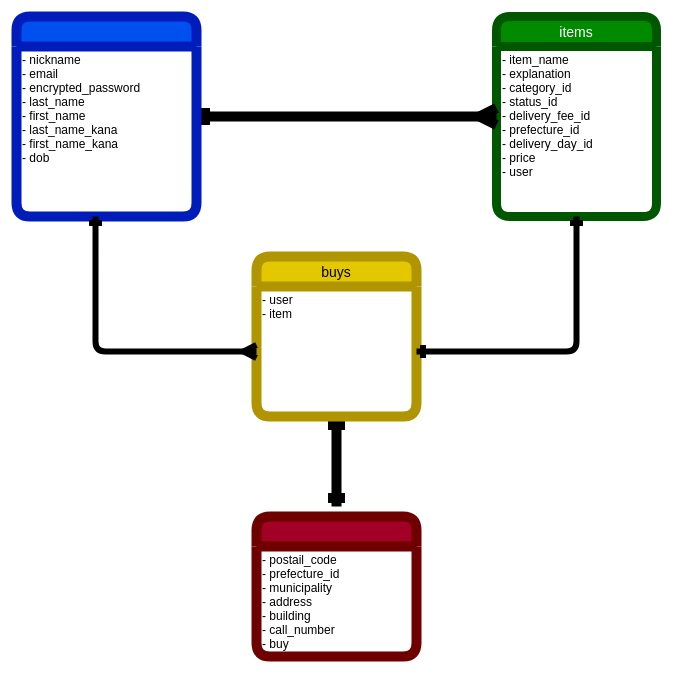
Image size: 673x673. Some labels were removed from this diagram. Here are the shapes that lost their labels. From the top down, the box of each, then its label:
(11, 11, 201, 221): users
(251, 511, 421, 661): deliveries
